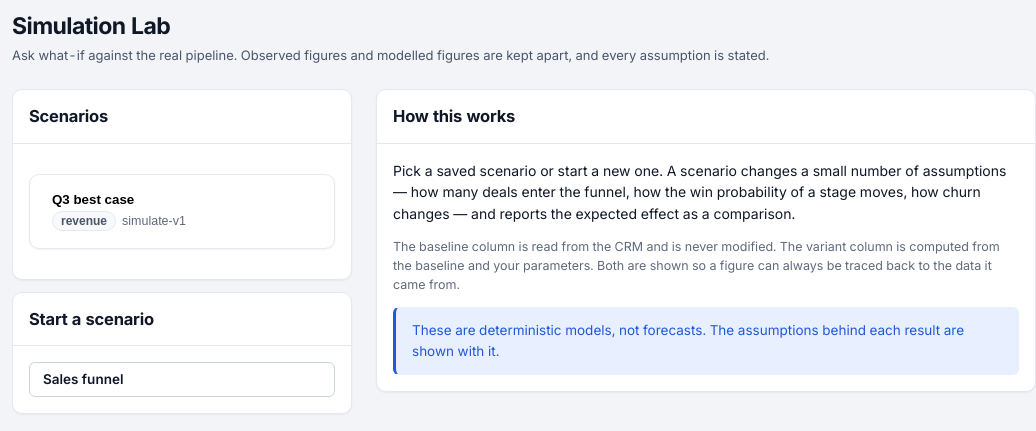
it: SimulationPage › lists saved scenarios and opens one
The width and height of the screenshot is (1036, 431).
Click the button "Q3 best case revenue simulate-v1": {"x": 182, "y": 211} [29, 174, 335, 248]
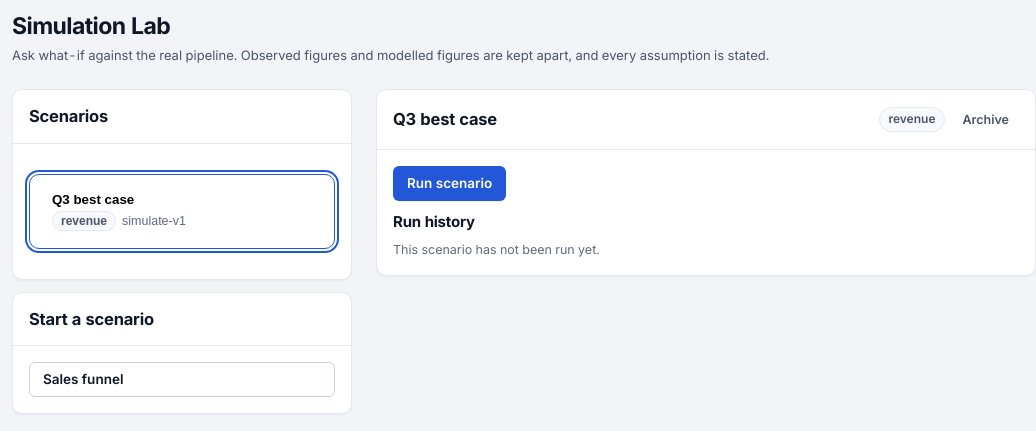
Now the button "Run scenario" is shown, box [393, 166, 506, 201]
